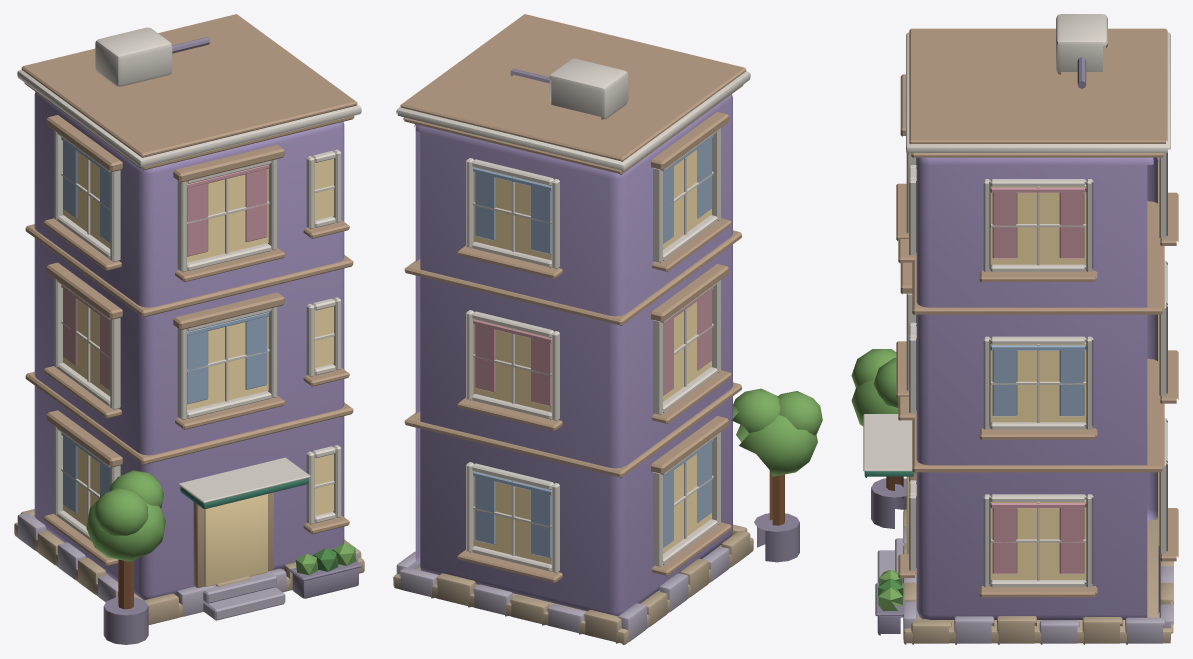
The model's file is ac_office_r90.glb.
3 views of the same model, side by side, from view 1: azimuth 30°, elevation 25°; view 2: azimuth 150°, elevation 25°; view 3: azimuth 270°, elevation 25° (orthographic). The views are drawn at different scales.
Parts seen in each view (by area): view 1: box; view 2: box; view 3: box.
Boxes of the visible parts, <box> form: box: <box>14,14,364,644</box>; box: <box>393,14,822,644</box>; box: <box>851,14,1178,644</box>.
Size of the model in its own units: 7.99 by 13.75 by 7.52.
